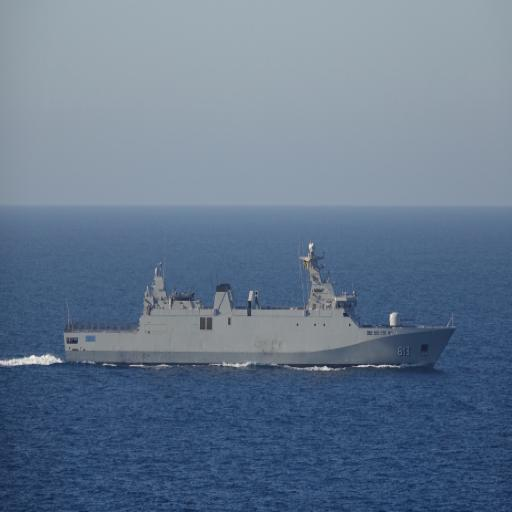Fragata: (61, 235, 460, 370)
